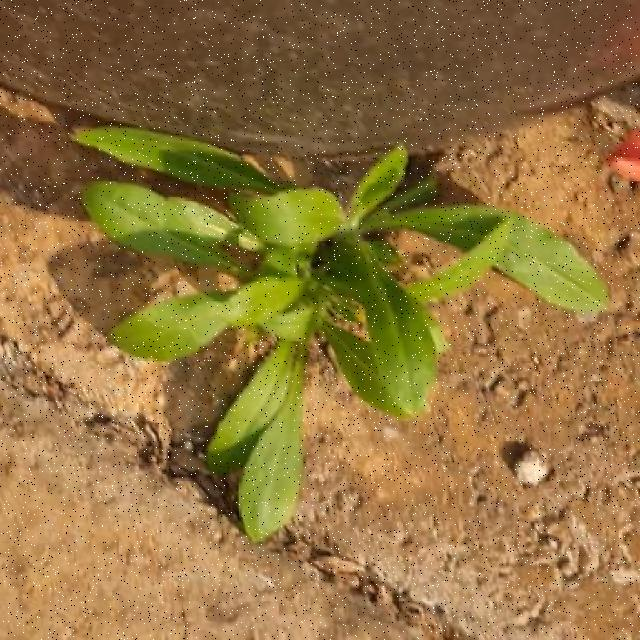weed: (74, 126, 608, 542)
